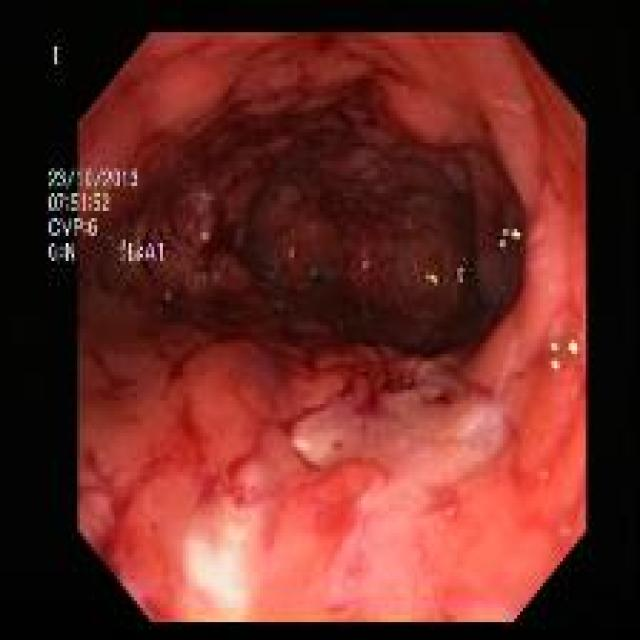ulcerative-colitis: (71, 33, 586, 621)
